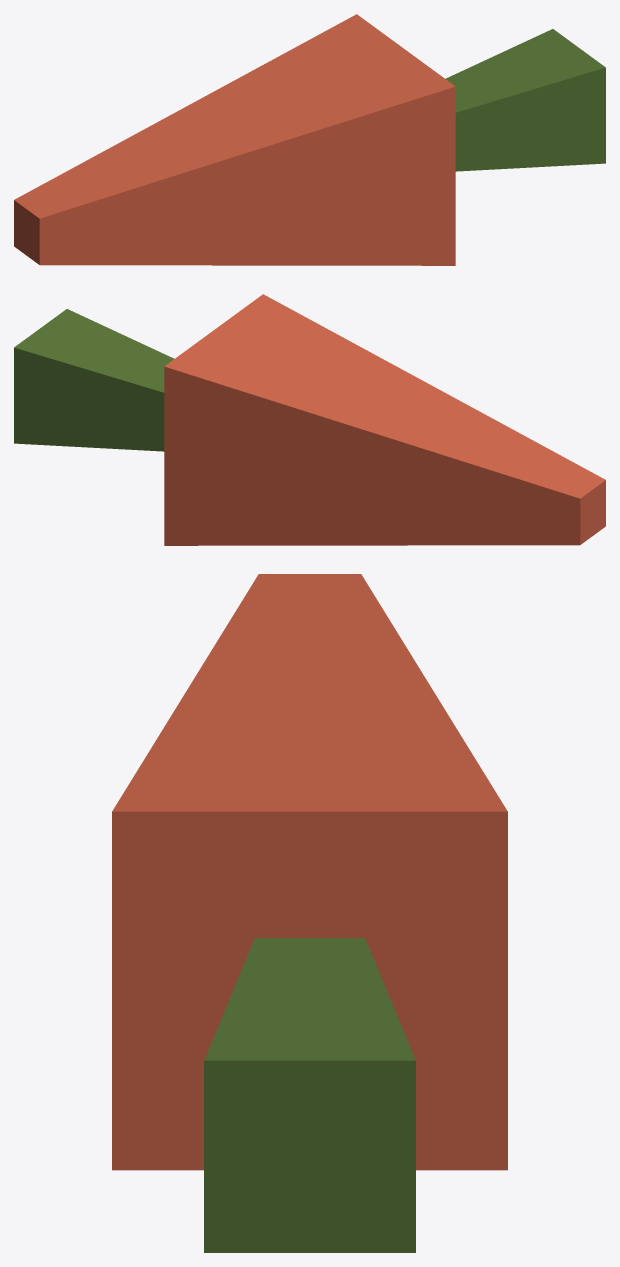
Rendered from schneeman.fbx.
The picture shows the model from 3 angles, top to bottom: view 1: azimuth 30°, elevation 25°; view 2: azimuth 150°, elevation 25°; view 3: azimuth 270°, elevation 25°; orthographic projection. The views are drawn at different scales.
Visible parts, largest first — view 1: Cube180; view 2: Cube180; view 3: Cube180.
Boxes of the visible parts, <box> form: Cube180: <box>14,14,605,265</box>; Cube180: <box>14,294,605,545</box>; Cube180: <box>112,574,507,1252</box>.
Size of the model in its own units: 645 by 200 by 200.
